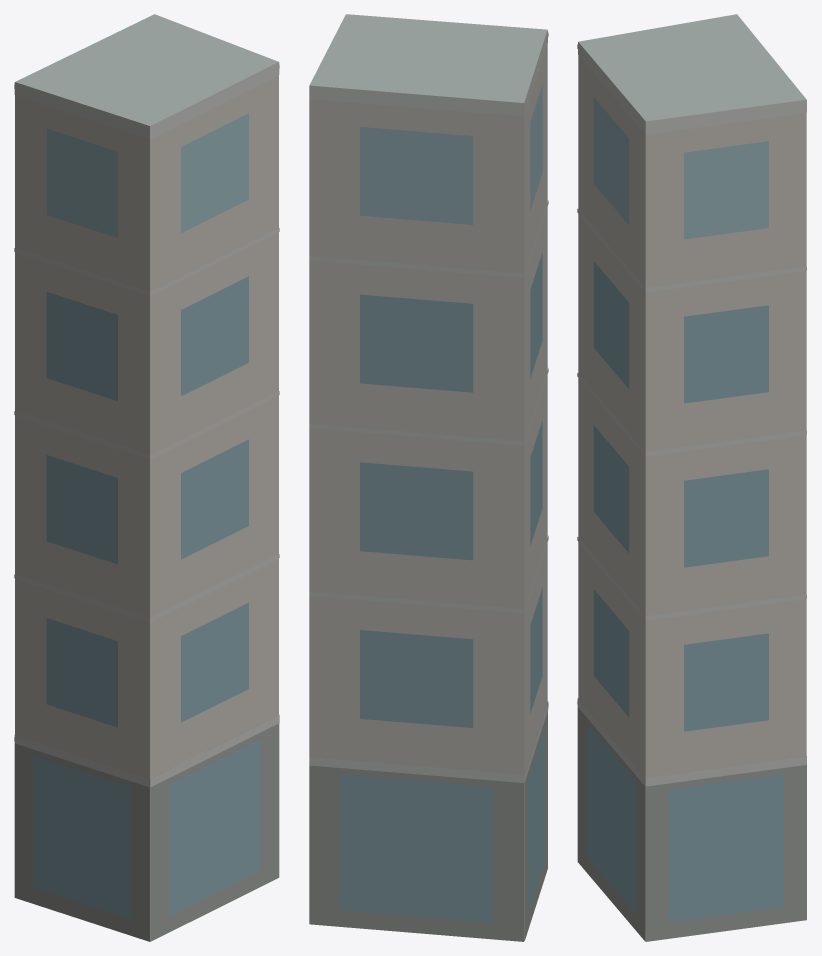
Rendered from survey-upis-32708611.glb.
The picture shows the model from 3 angles, left to right: view 1: azimuth 30°, elevation 25°; view 2: azimuth 150°, elevation 25°; view 3: azimuth 270°, elevation 25°; orthographic projection. The views are drawn at different scales.
Visible parts, largest first — view 1: survey-upis-32708611.tmp; view 2: survey-upis-32708611.tmp; view 3: survey-upis-32708611.tmp.
Boxes of the visible parts, x1,y1,x2,y2 form: survey-upis-32708611.tmp: (14, 14, 279, 941); survey-upis-32708611.tmp: (309, 14, 548, 941); survey-upis-32708611.tmp: (577, 14, 806, 941).
Bounding box in the file's own units: 4.31 × 15.25 × 3.88.
